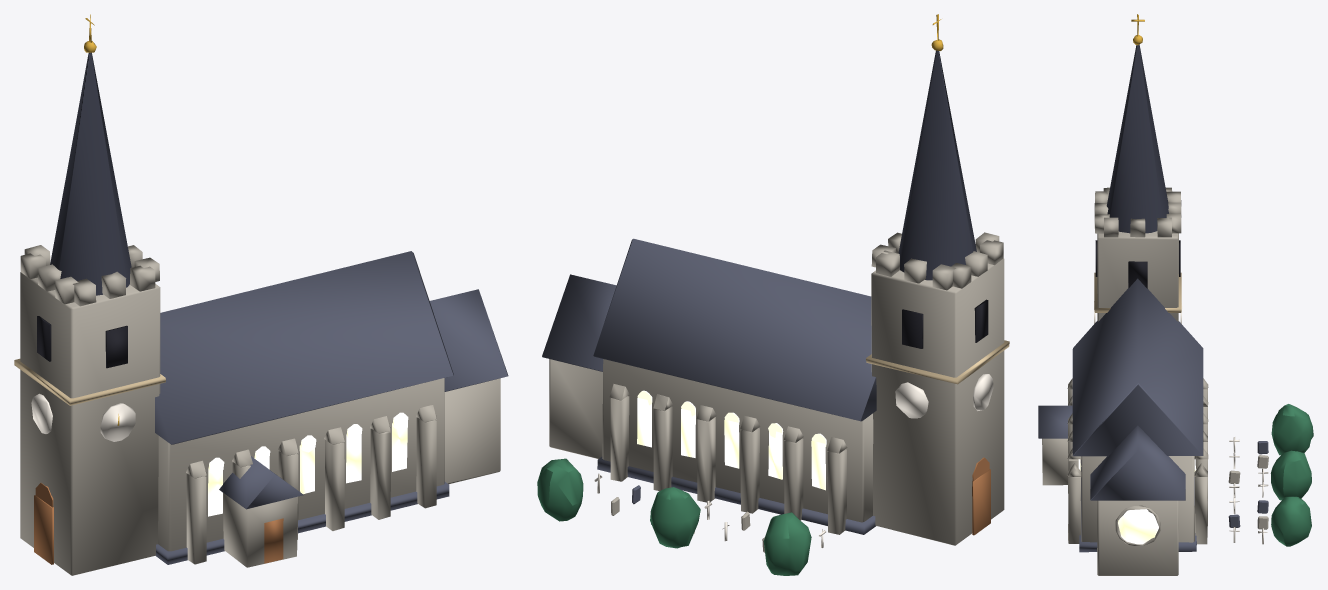
The model's file is village_church.glb.
3 renders of one model, left to right at view 1: azimuth 30°, elevation 25°; view 2: azimuth 150°, elevation 25°; view 3: azimuth 270°, elevation 25°, orthographic. The views are drawn at different scales.
Parts seen in each view (by area): view 1: village_church; view 2: village_church; view 3: village_church.
Boxes of the visible parts, box(x1,y1,x2,y2) form: village_church: box(14, 14, 508, 575); village_church: box(537, 14, 1009, 575); village_church: box(1038, 14, 1313, 575).
Bounding box in the file's own units: 22.15 × 25.69 × 15.42.
Materials: 1 (1 with a texture image).
